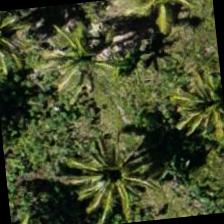Kelapa_Sawit: (25, 7, 124, 106), (67, 120, 166, 219), (161, 57, 223, 154)
